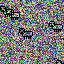sheep: (6, 8, 20, 21), (18, 27, 33, 39), (0, 6, 14, 17), (49, 21, 63, 32), (55, 59, 64, 64)
